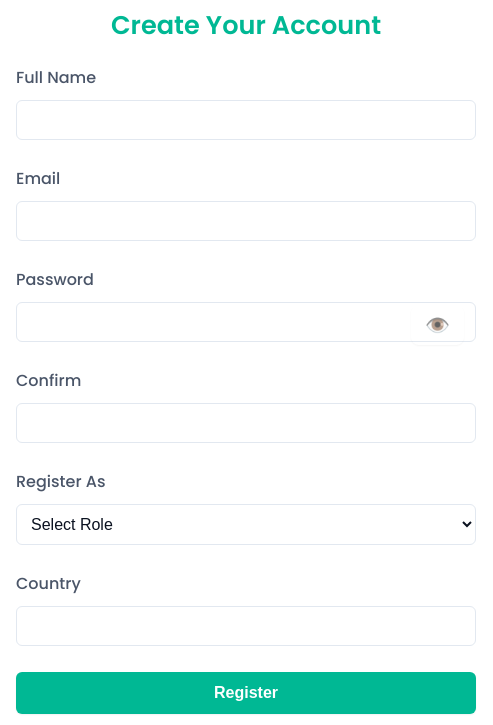
Test: RegisterPage (customer) › shows global error message if registration fails
The width and height of the screenshot is (493, 725).
Type "Test User" into the field labelled "Full Name" at (246, 120), box [16,100,476,140]
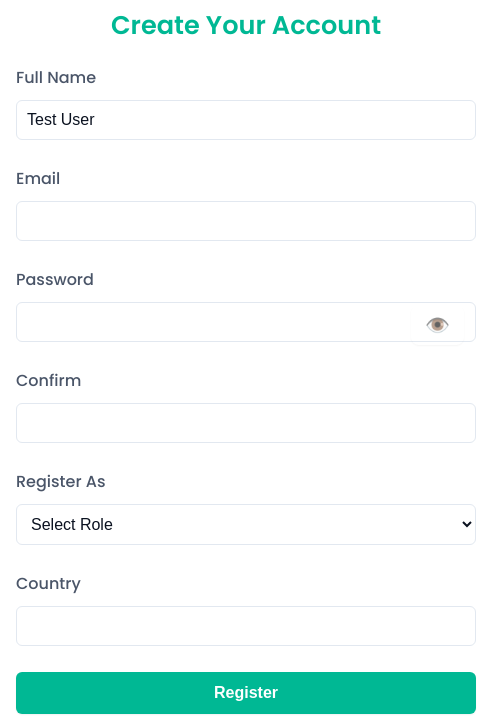
Type "test@example.com" into the field labelled "Email" at (246, 221), box [16,201,476,241]
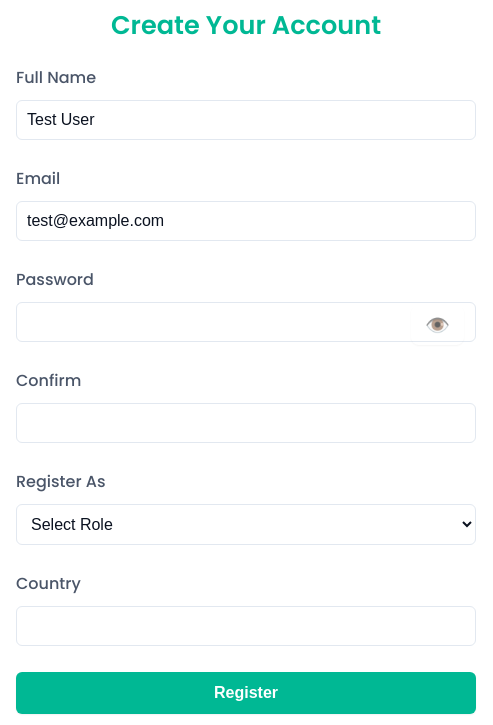
Type "password123" into the password field labelled "Password" at (246, 322), box [16,302,476,342]
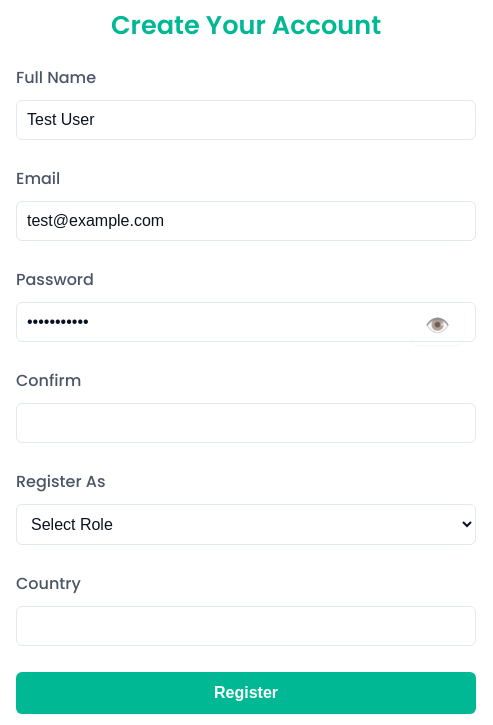
Type "Ethiopia" into the field labelled "Country" at (246, 626), box [16,606,476,646]
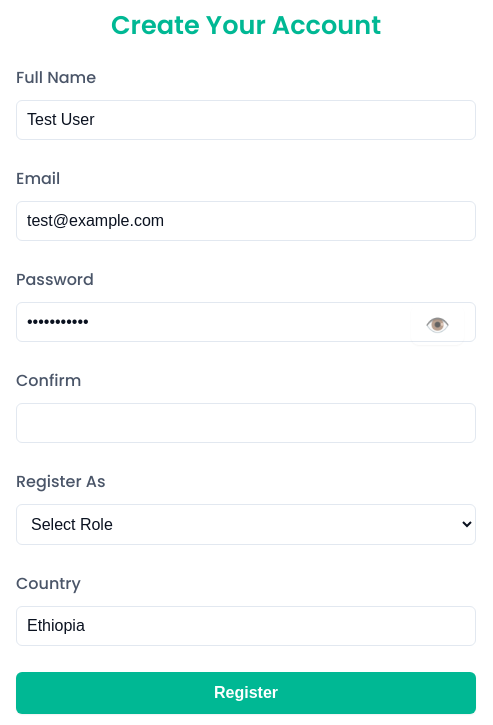
Select "Customer (Buyer)" in the dropdown labelled "Register As" at (246, 524), box [16,504,476,545]
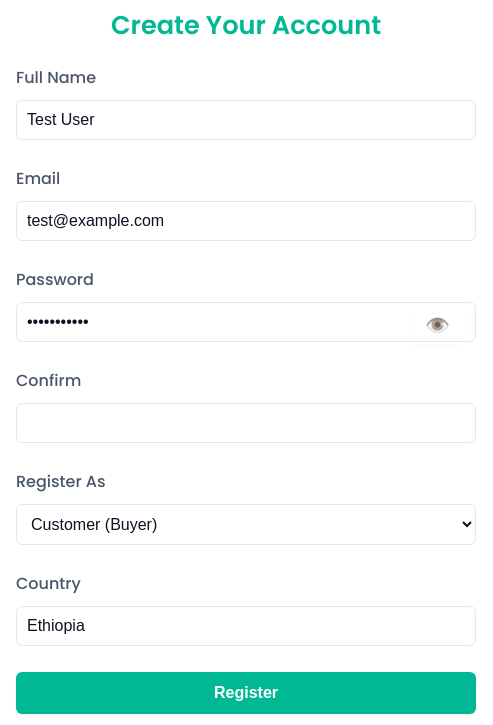
Click the button "Register" at (246, 693), box [16,672,476,714]
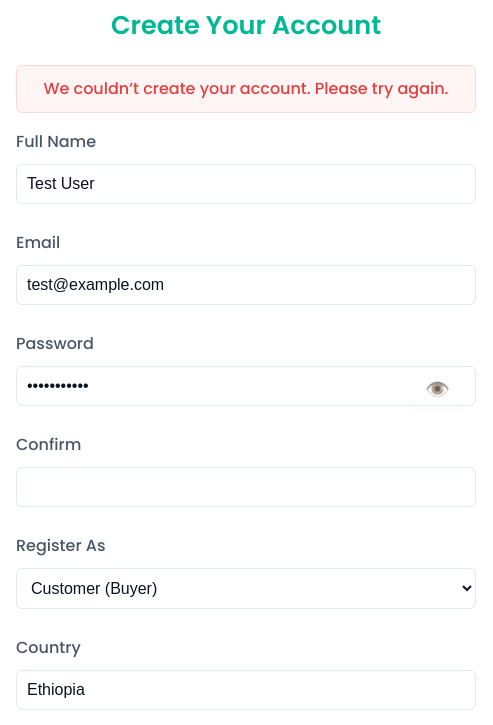
Check: the message with test id "global-message" reads "We couldn’t create your account. Please try again.", box [44,77,448,100]
